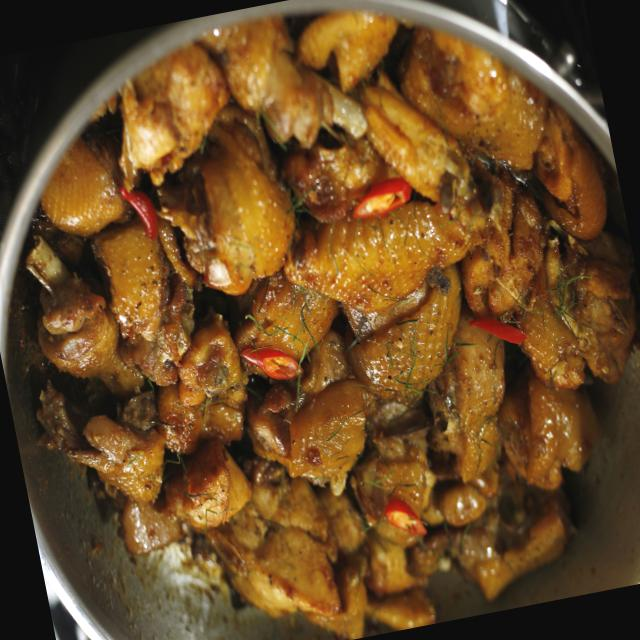ga kho: (27, 13, 636, 640)
